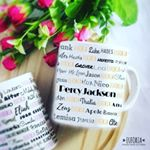cups: (50, 39, 143, 131), (1, 70, 64, 150)
